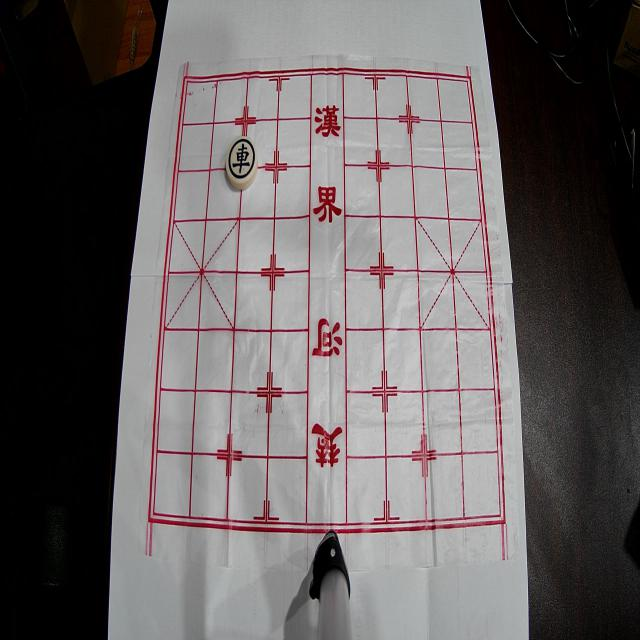black-chariot: (226, 136, 258, 190)
